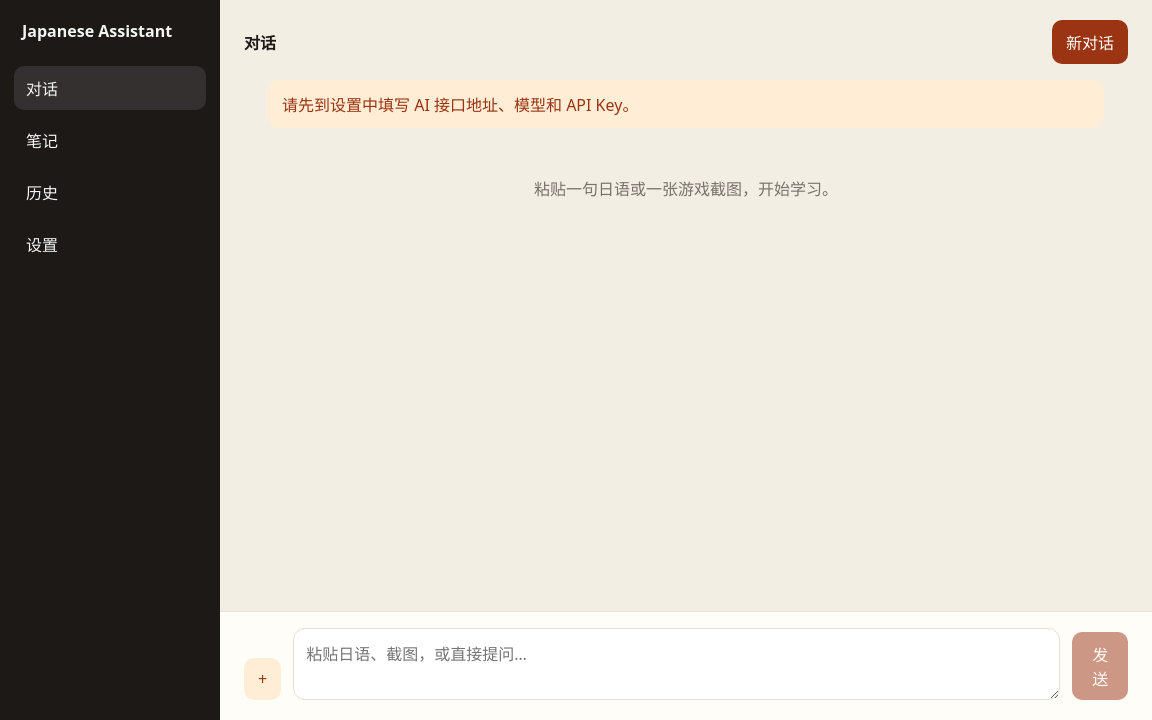
it: renderer interactions › validates settings and lists history
Expected: the text "请先到设置中填写 AI 接口地址、模型和 API Key。" is shown, x1=268 y1=80 x2=1104 y2=128
Click the button "设置" at (110, 244), box x1=14 y1=222 x2=206 y2=266
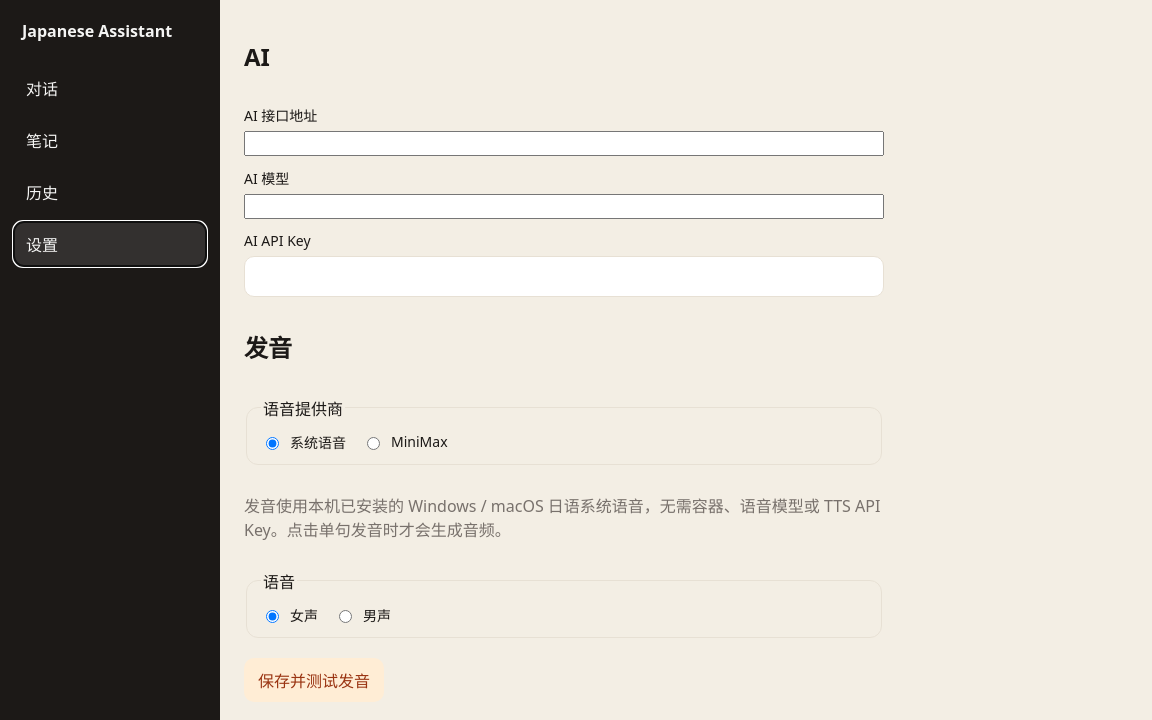
Type "https://example.test/v1" into the field labelled "AI 接口地址" at (564, 143), box x1=244 y1=131 x2=884 y2=156
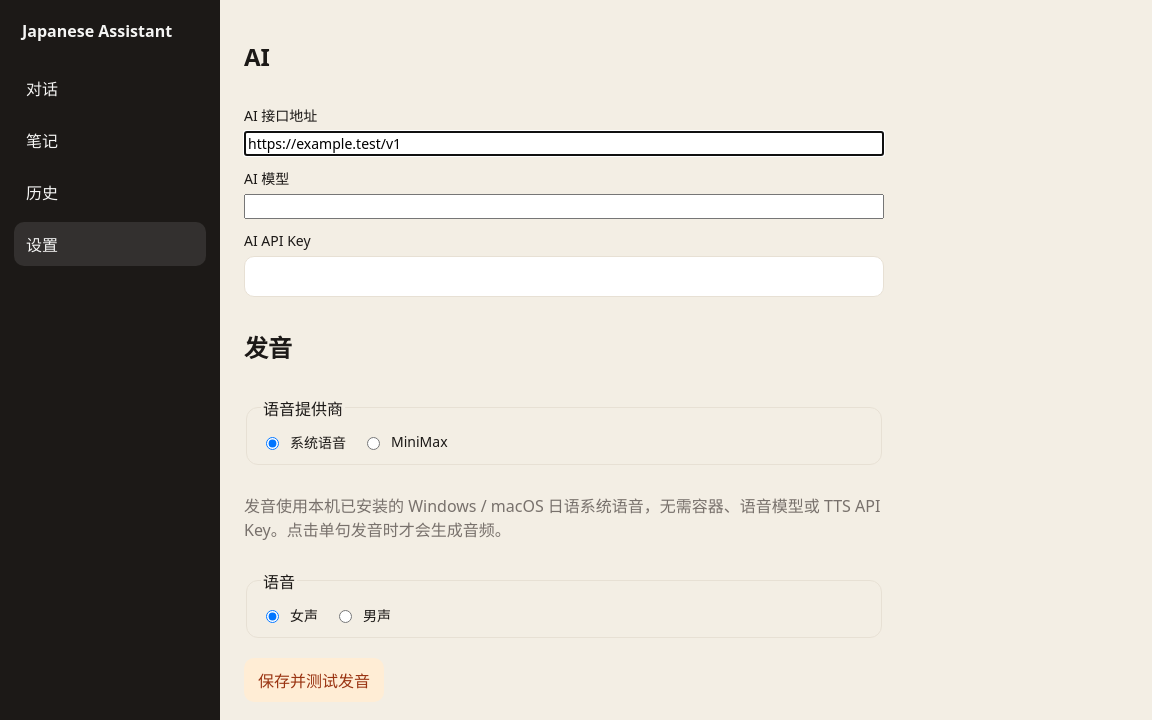
Expected: the radio button labelled "女声" is checked, x1=266 y1=610 x2=279 y2=623
Expected: the radio button labelled "男声" is shown, x1=339 y1=610 x2=352 y2=623
Expected: the button "保存并测试发音" is shown, x1=244 y1=658 x2=384 y2=702
Click the button "历史" at (110, 192), box x1=14 y1=170 x2=206 y2=214
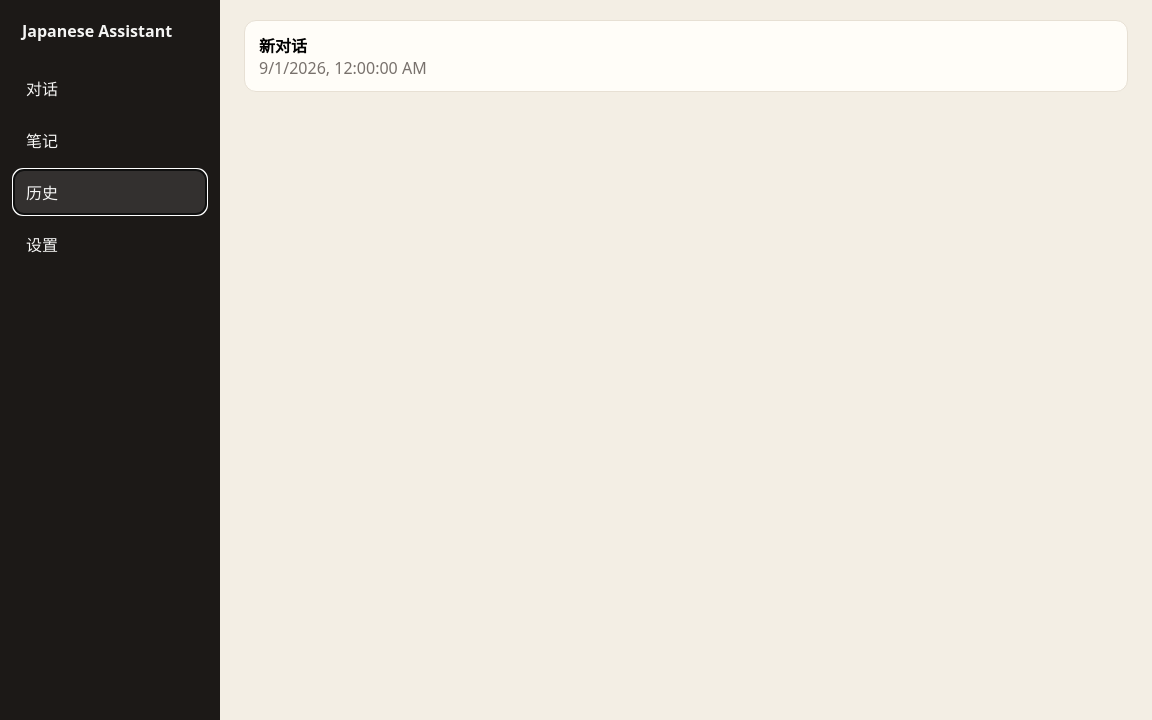
Expected: the button "新对话 9/1/2026, 12:00:00 AM" is shown, x1=244 y1=20 x2=1128 y2=92
